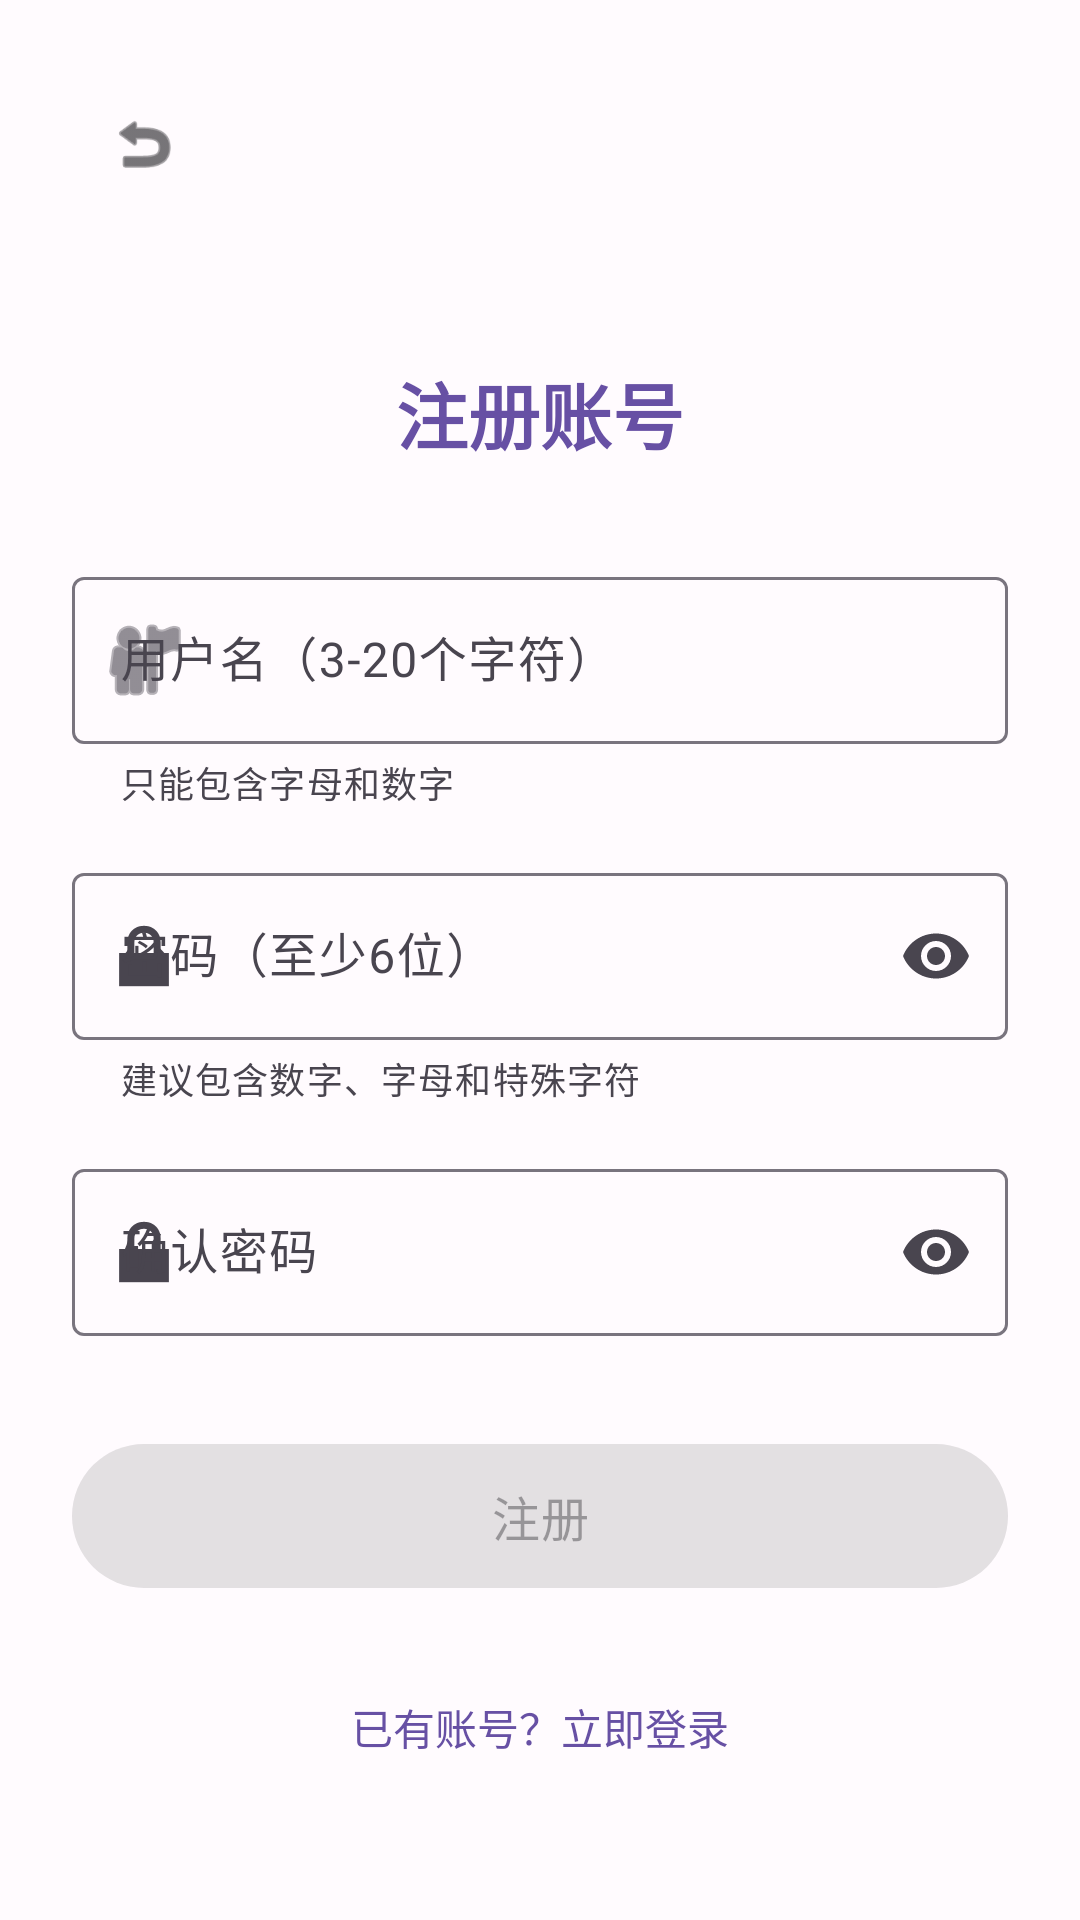

Icon bounding boxes for this 1080*1920 phone screenshot, format (x1=x1, y1=y1, x2=x2, y2=y2):
返回: (x1=119, y1=121, x2=171, y2=168)
